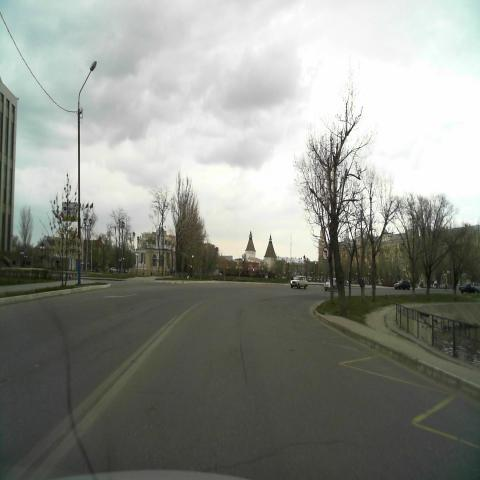3_18_2: (322, 246, 330, 261)
